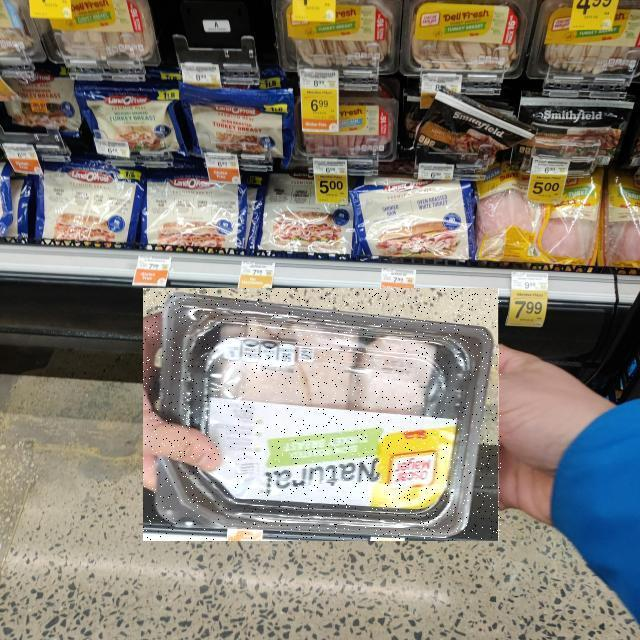Meat: (144, 288, 502, 541)
